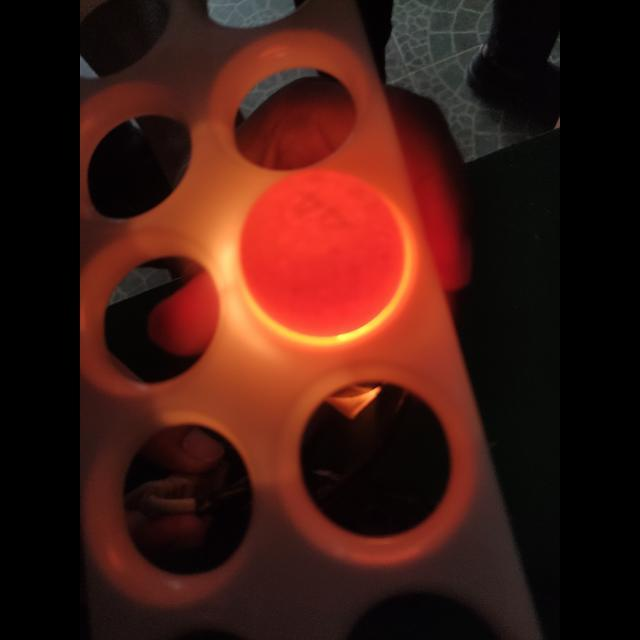A - Good: (247, 162, 401, 330)
